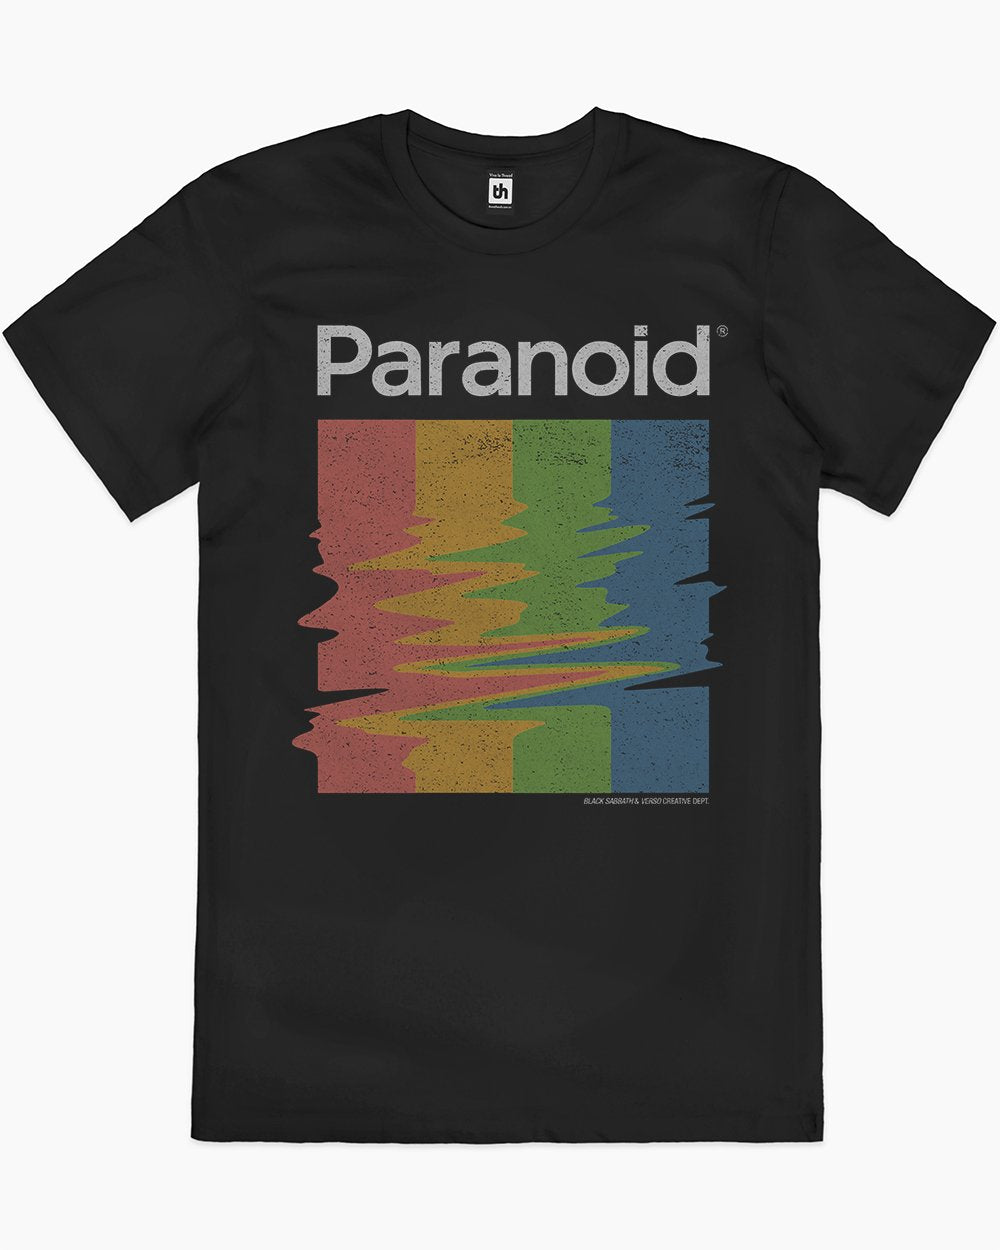design: (283, 308, 733, 812)
